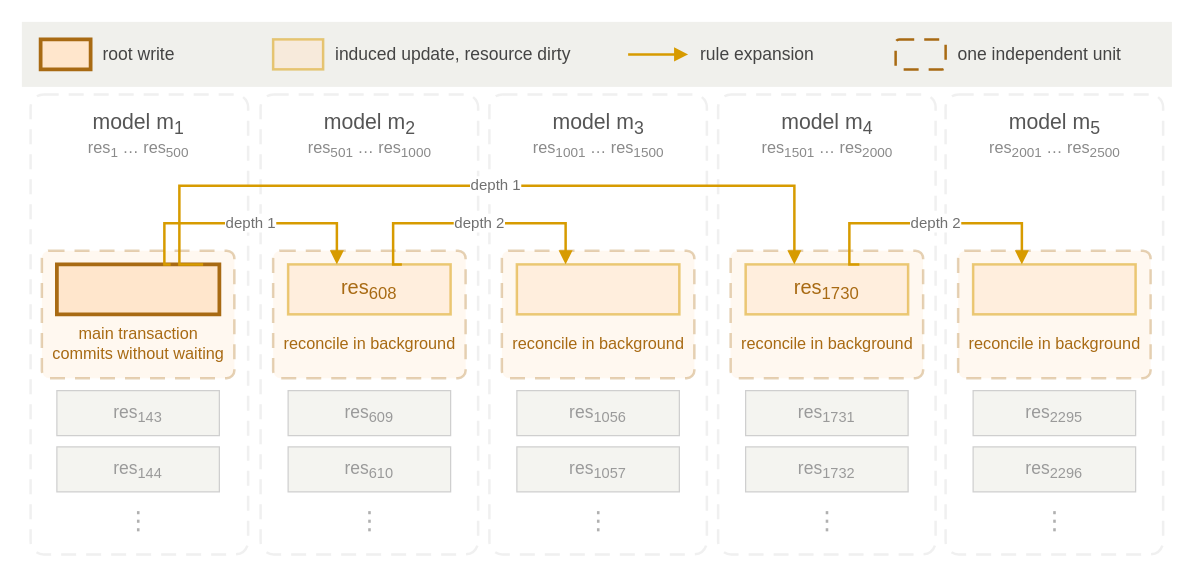
The diagram is 1193 pixels wide and 576 high, and some of its shapes have lost their labels. The centre of each missing label's shape, as x and y in pixels:
res 1055: (x=597, y=288)
res 142: (x=137, y=289)
res 2294: (x=1053, y=288)
